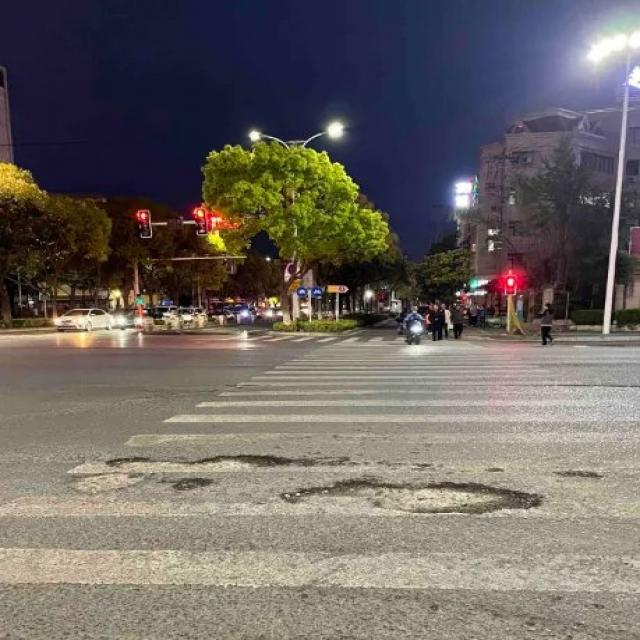Pothole: (276, 482, 541, 512), (100, 457, 314, 473)
